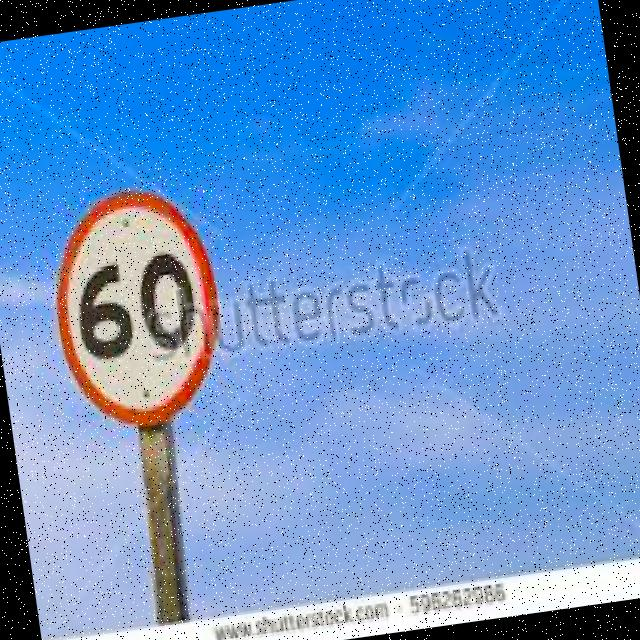Ograniczenie predkosci do 60: (44, 180, 236, 448)
